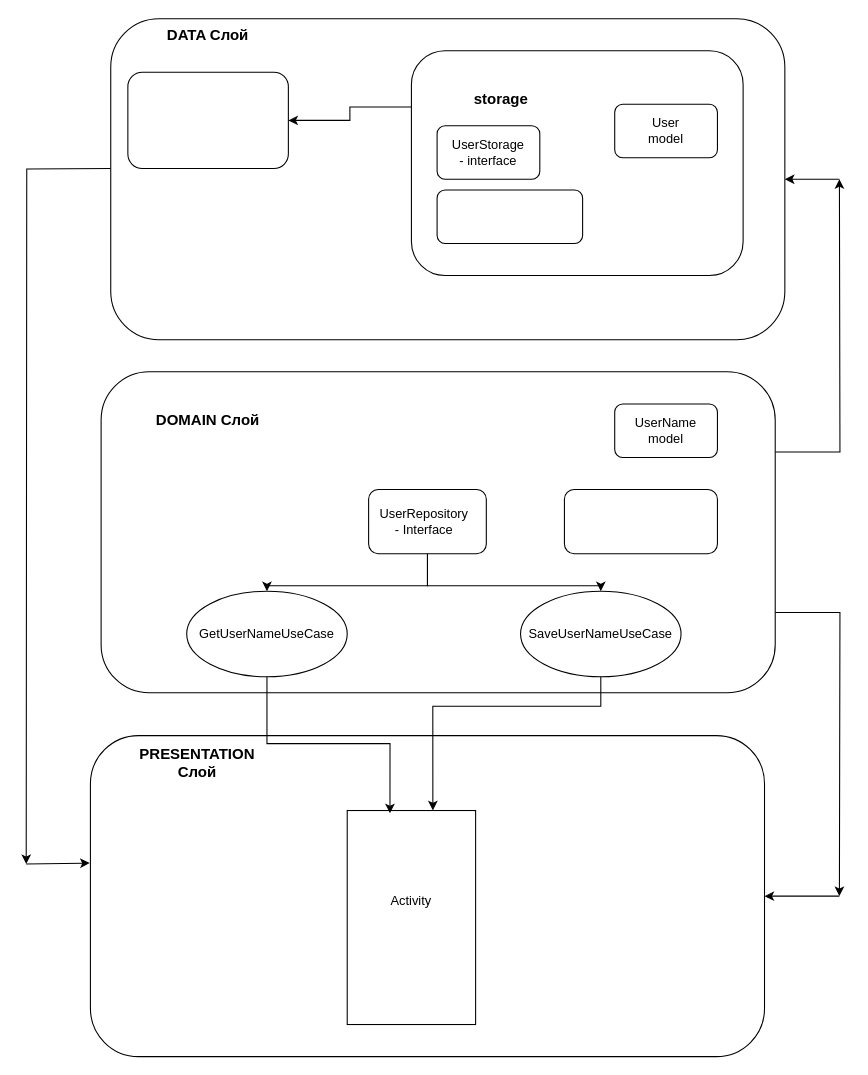
This 868x1075 diagram has some shape labels left out. Each missing label, with the centre of its shape:
"SaveUserNameParam model" belongs at pixel 640 521.
"SharedPrefsUserStorage - Implimentation" belongs at pixel 509 216.
"UserRepositoryImpl - Implimentation" belongs at pixel 207 120.
